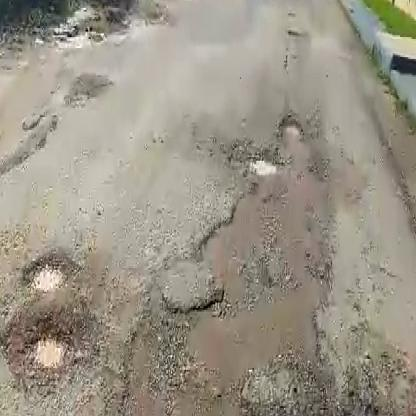pothole: (19, 311, 85, 395), (17, 250, 77, 294), (247, 148, 284, 178), (278, 113, 304, 138)
